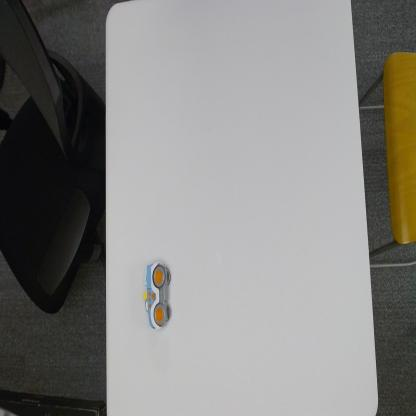Car: (143, 260, 173, 331)
